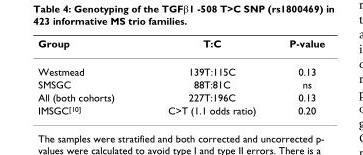table: (37, 36, 324, 115)
table column: (140, 36, 271, 115), (37, 36, 140, 115), (271, 36, 324, 115)
table column header: (37, 36, 324, 57)
table row: (37, 36, 324, 57), (37, 57, 324, 77), (37, 77, 324, 90), (37, 90, 324, 103), (37, 103, 324, 115)
